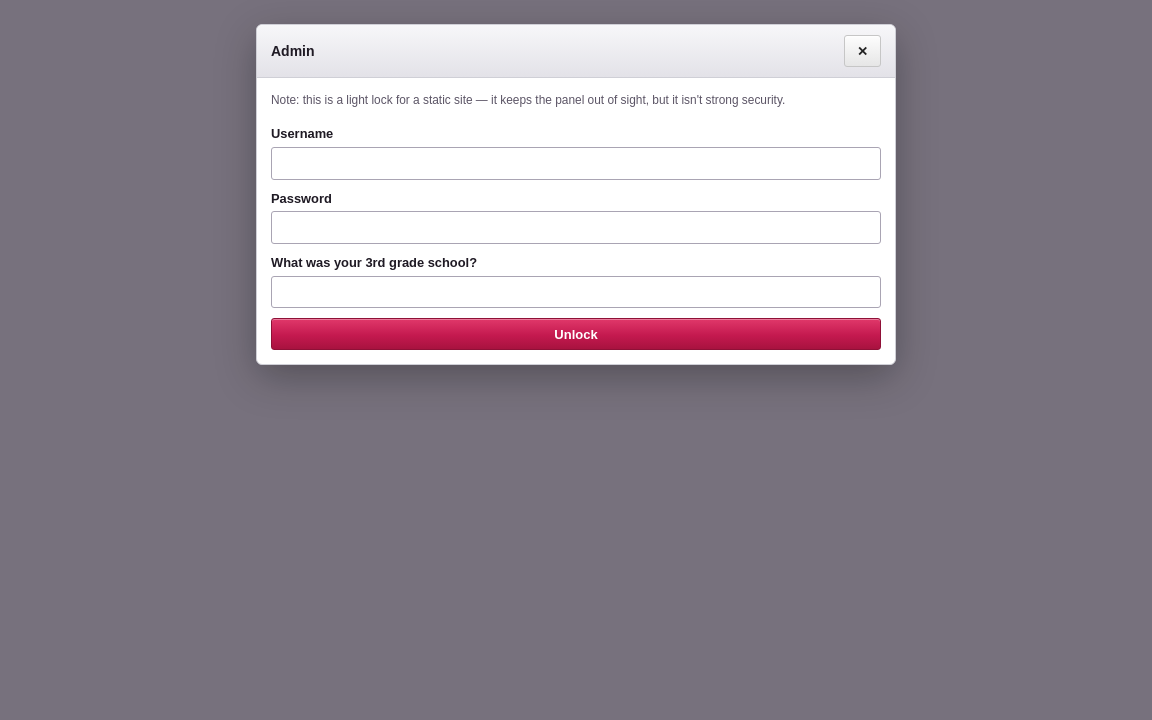
wrong credentials are rejected and the panel stays locked
This screenshot has width=1152, height=720.
Type "admin" into the field labelled "Username" at coordinates (576, 163), box x1=271 y1=147 x2=881 y2=180
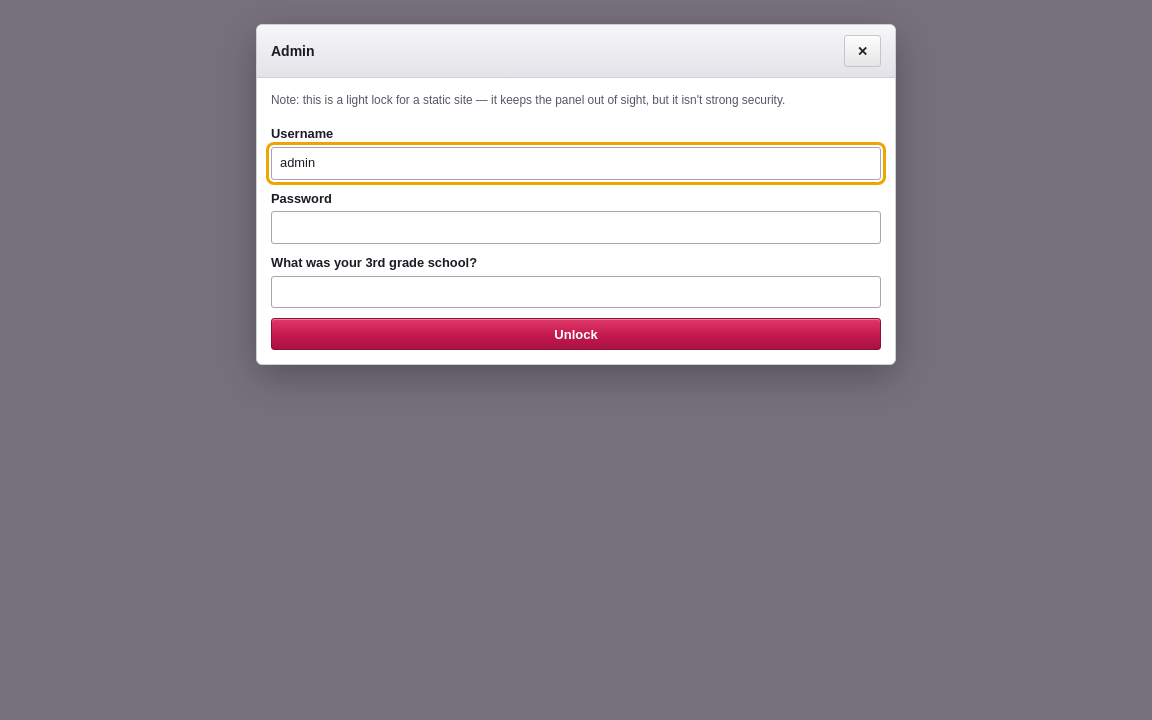
Type "wrong" into the password field labelled "Password" at coordinates (576, 228), box x1=271 y1=211 x2=881 y2=244
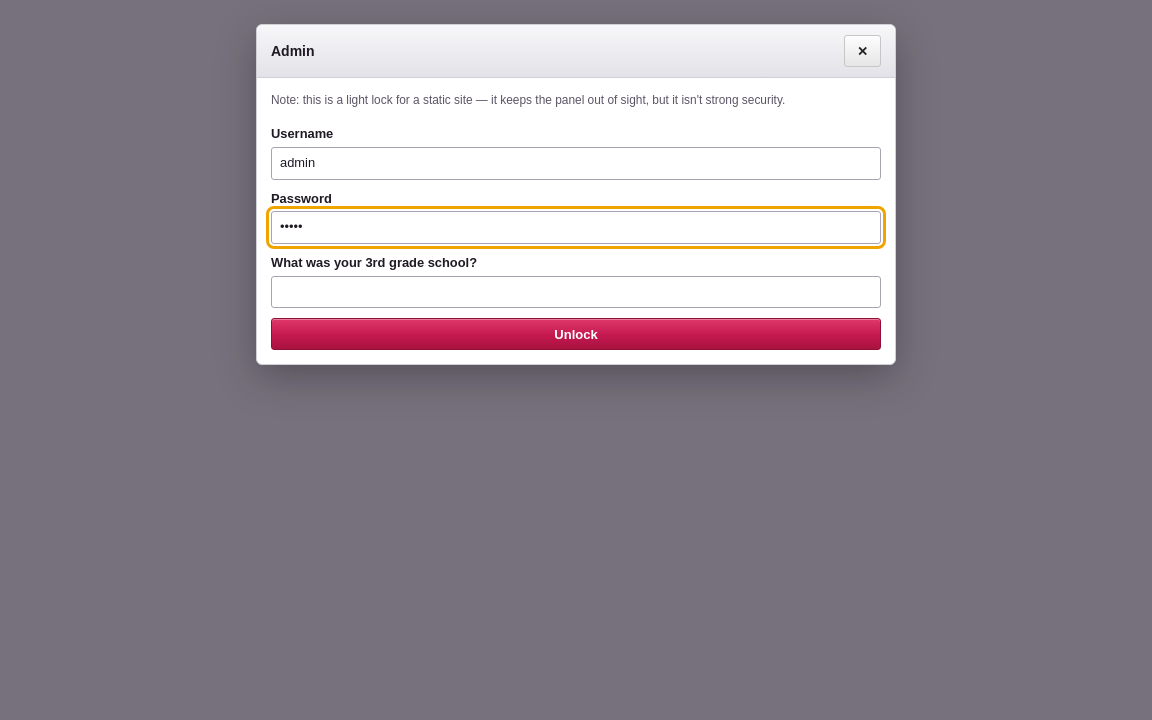
Type "Elk City Elementary" into the field labelled "What was your 3rd grade school?" at coordinates (576, 292), box x1=271 y1=276 x2=881 y2=308
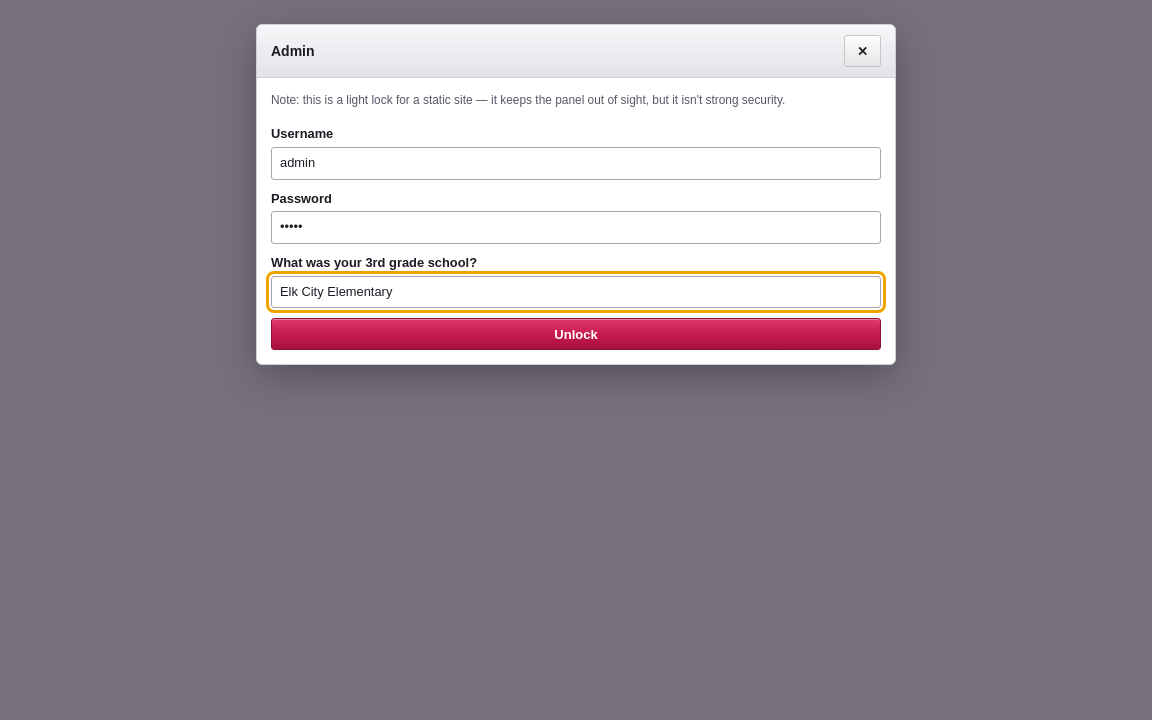
Click the button "Unlock" at coordinates (576, 334), box x1=271 y1=318 x2=881 y2=350
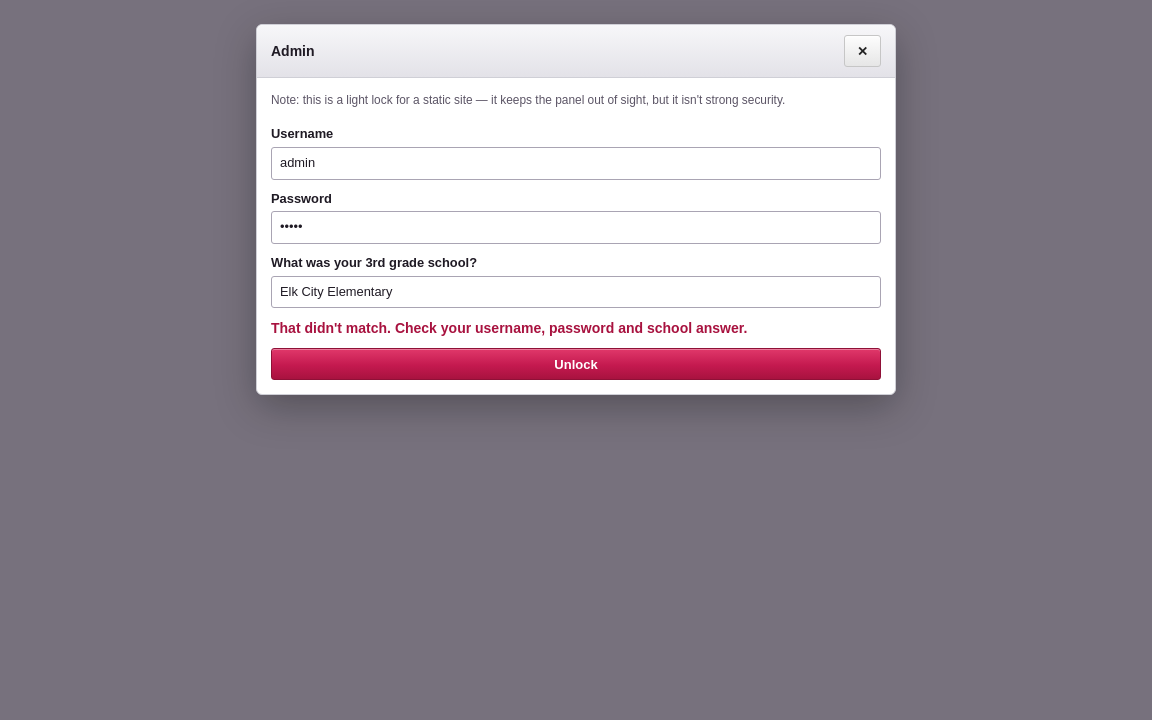
Now the text "That didn't match. Check your username, password and school answer." is shown, box x1=271 y1=320 x2=747 y2=336
